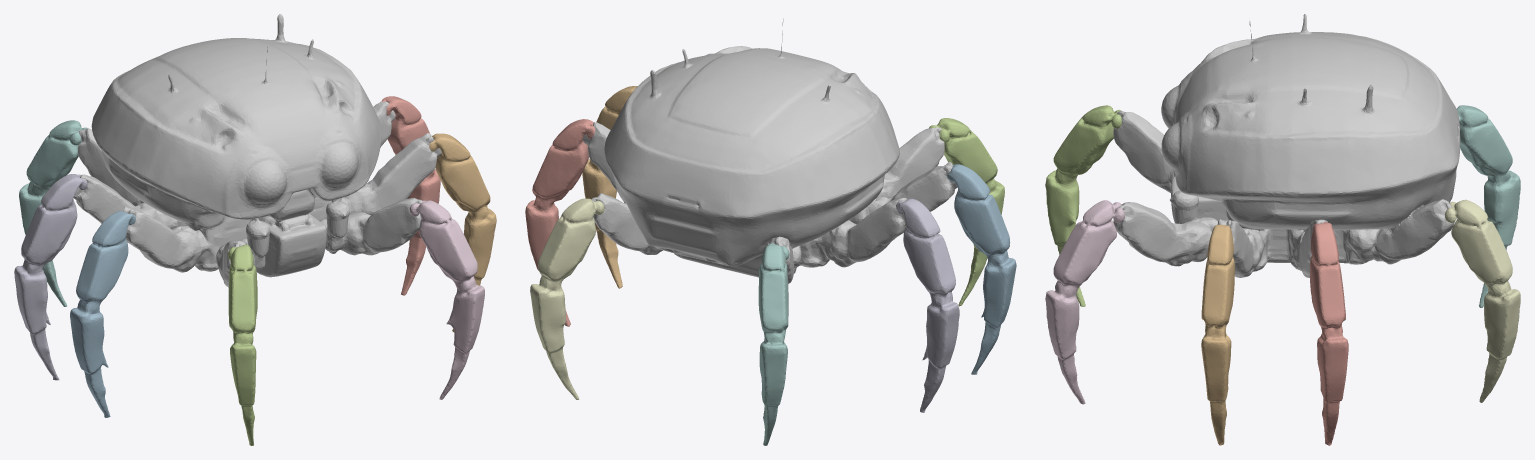
File: mechcrab.glb
The picture shows the model from 3 angles, left to right: view 1: azimuth 30°, elevation 25°; view 2: azimuth 150°, elevation 25°; view 3: azimuth 270°, elevation 25°; orthographic projection. The views are drawn at different scales.
Visible parts, largest first — view 1: mechcrab_0.obj_8, mechcrab_0.obj_2, mechcrab_0.obj_4, mechcrab_0.obj_7, mechcrab_0.obj_5, mechcrab_0.obj_6, mechcrab_0.obj, mechcrab_0.obj_3; view 2: mechcrab_0.obj_8, mechcrab_0.obj_2, mechcrab_0.obj_4, mechcrab_0.obj_1, mechcrab_0.obj, mechcrab_0.obj_3, mechcrab_0.obj_6, mechcrab_0.obj_5; view 3: mechcrab_0.obj_8, mechcrab_0.obj_1, mechcrab_0.obj_7, mechcrab_0.obj_3, mechcrab_0.obj_5, mechcrab_0.obj_6, mechcrab_0.obj.
Part boxes in pixels (x1,y1,x2,y2): mechcrab_0.obj_8: (73, 14, 441, 287); mechcrab_0.obj_2: (14, 174, 87, 380); mechcrab_0.obj_4: (70, 210, 135, 417); mechcrab_0.obj_7: (409, 200, 484, 399); mechcrab_0.obj_5: (429, 133, 496, 332); mechcrab_0.obj_6: (228, 244, 257, 445); mechcrab_0.obj: (19, 120, 88, 306); mechcrab_0.obj_3: (381, 96, 440, 295); mechcrab_0.obj_8: (583, 18, 957, 283); mechcrab_0.obj_2: (896, 198, 959, 412); mechcrab_0.obj_4: (947, 164, 1016, 374); mechcrab_0.obj_1: (530, 198, 604, 399); mechcrab_0.obj: (758, 243, 789, 445); mechcrab_0.obj_3: (525, 119, 595, 326); mechcrab_0.obj_6: (929, 118, 1004, 306); mechcrab_0.obj_5: (582, 86, 637, 288); mechcrab_0.obj_8: (1113, 14, 1460, 277); mechcrab_0.obj_1: (1445, 199, 1520, 402); mechcrab_0.obj_7: (1045, 200, 1124, 404); mechcrab_0.obj_3: (1310, 222, 1348, 445); mechcrab_0.obj_5: (1201, 224, 1234, 445); mechcrab_0.obj_6: (1045, 105, 1121, 306); mechcrab_0.obj: (1457, 105, 1520, 307).
Bounding box in the file's own units: 1.9 × 1.39 × 1.77.
